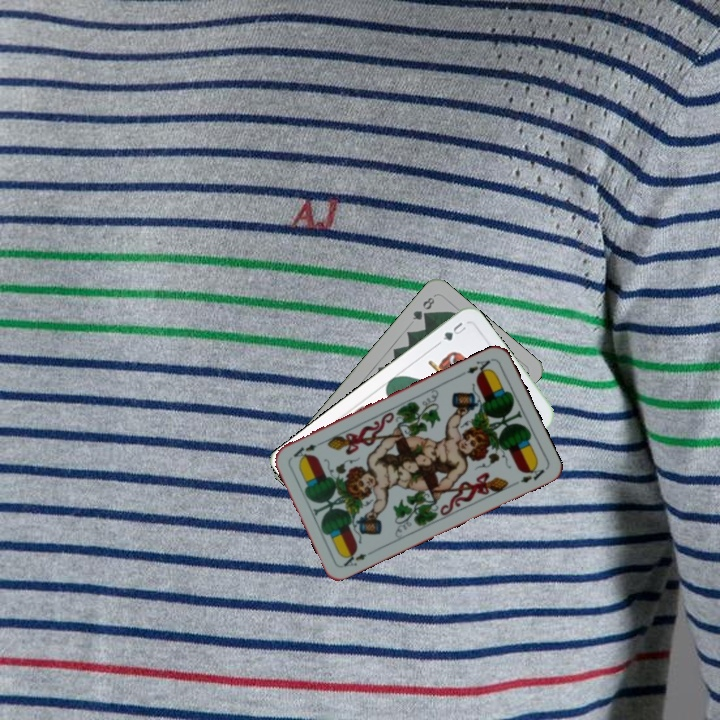EA: (339, 546, 377, 569), (463, 355, 495, 379)
G8: (408, 293, 437, 323)
GU: (439, 318, 469, 343)
